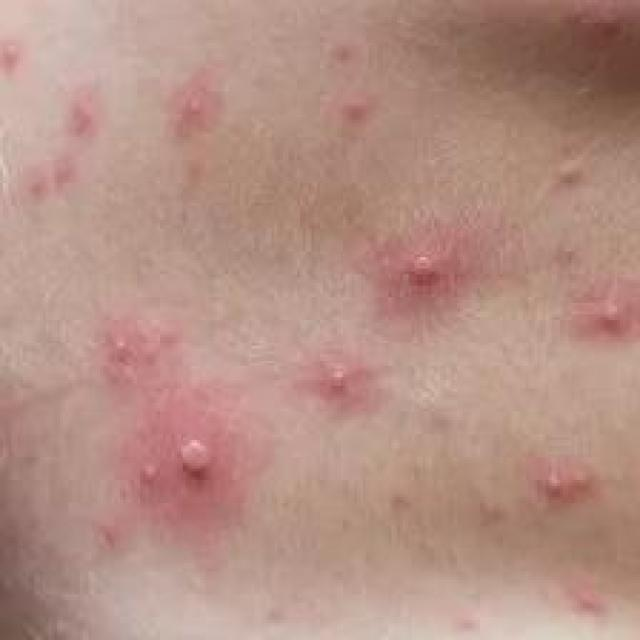others: (51, 83, 640, 640)
